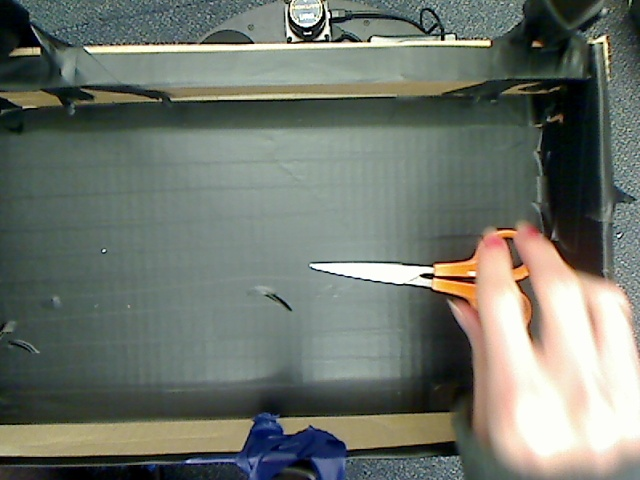scissors: (290, 214, 554, 334)
